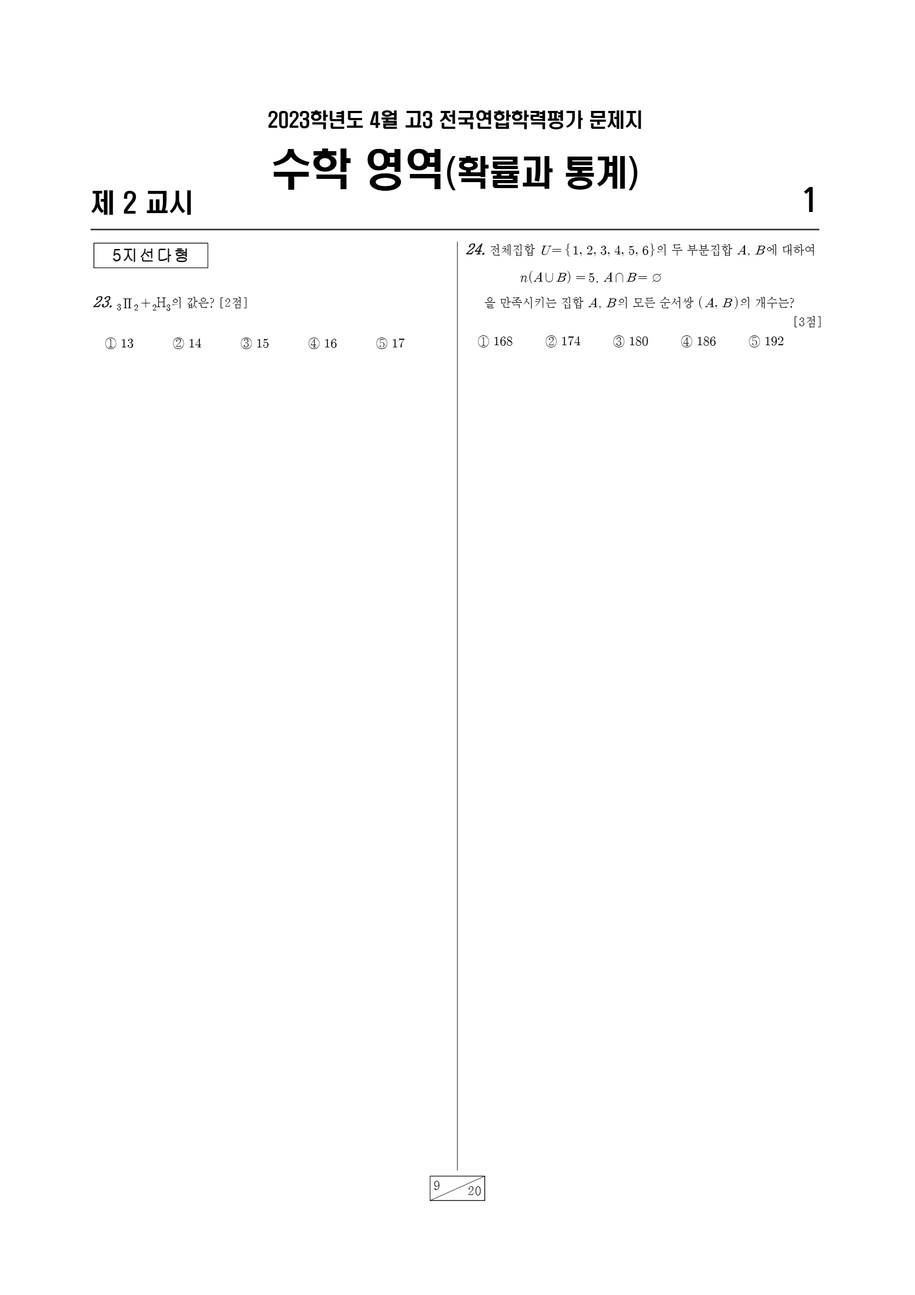opt_1: (102, 336, 120, 351), (477, 334, 489, 348)
opt_2: (545, 334, 558, 349), (172, 337, 184, 348)
opt_3: (240, 335, 253, 350), (613, 334, 624, 348)
opt_4: (307, 335, 320, 350), (680, 334, 693, 348)
opt_5: (748, 334, 760, 348), (375, 336, 387, 349)
